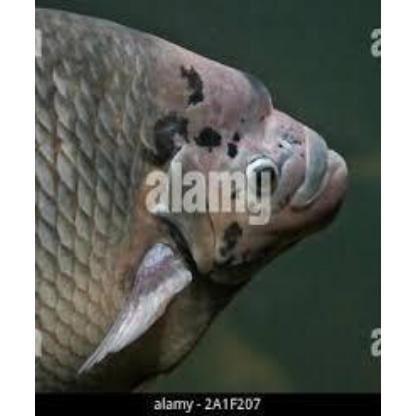gurame: (34, 12, 346, 387)
